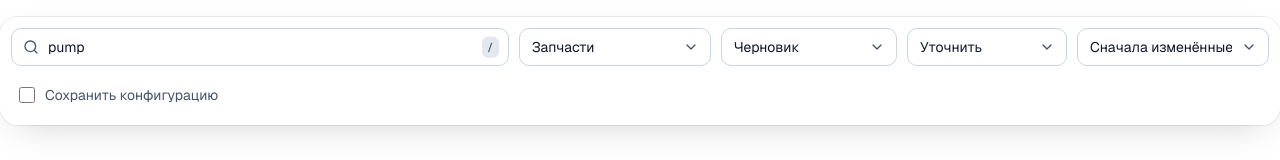
ProductsFilterBar › saves the current config, updates it live, then deletes and resets it while preserving search
Click the checkbox labelled "Сохранить конфигурацию": coordinates (27, 95) [19, 87, 35, 103]
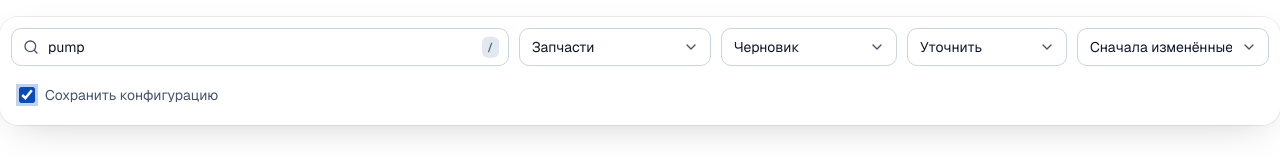
Select "По названию" in the dropdown named "Сортировка": coordinates (1173, 47) [1077, 28, 1269, 66]
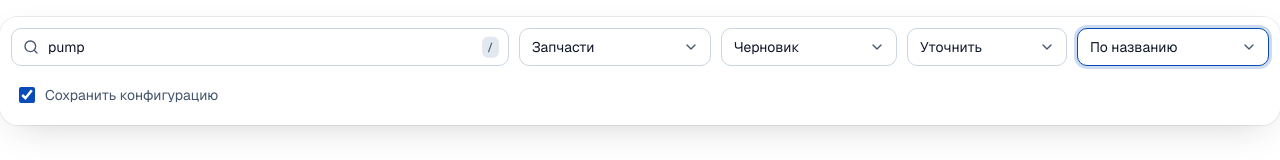
Click the checkbox labelled "Сохранить конфигурацию": coordinates (27, 95) [19, 87, 35, 103]
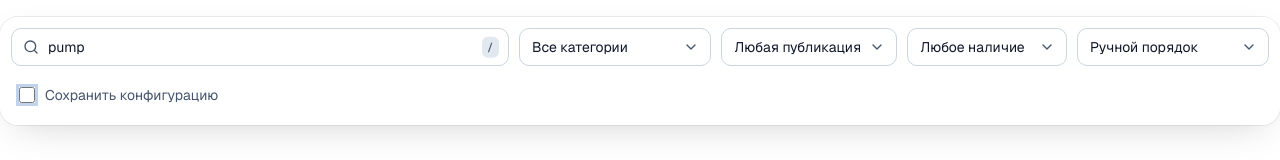
Check: the dropdown named "Фильтр по категории" shows "Все категории", box [519, 28, 711, 66]
Check: the dropdown named "Фильтр по публикации" shows "Любая публикация", box [721, 28, 897, 66]
Check: the dropdown named "Фильтр по наличию" shows "Любое наличие", box [907, 28, 1067, 66]
